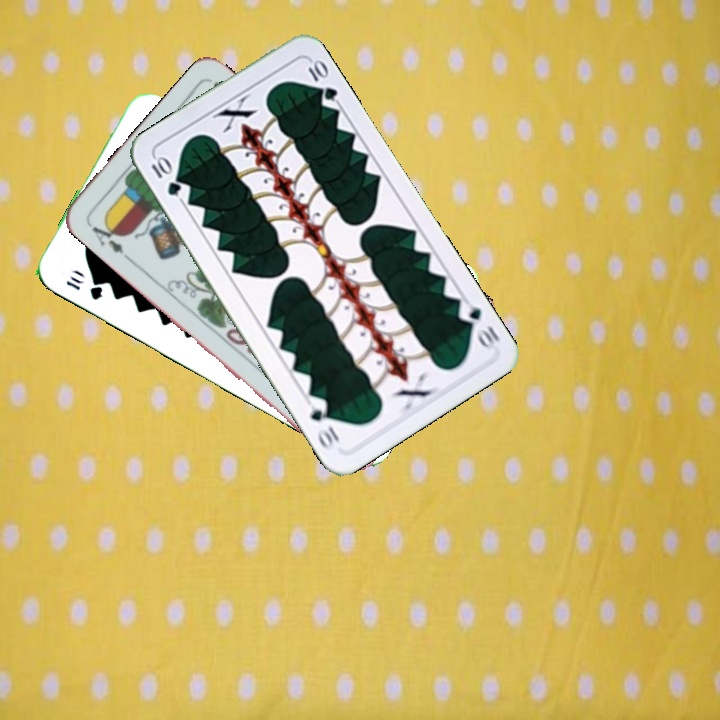EA: (88, 215, 127, 256)
G10: (453, 297, 503, 351), (147, 152, 184, 199), (61, 270, 106, 303)
